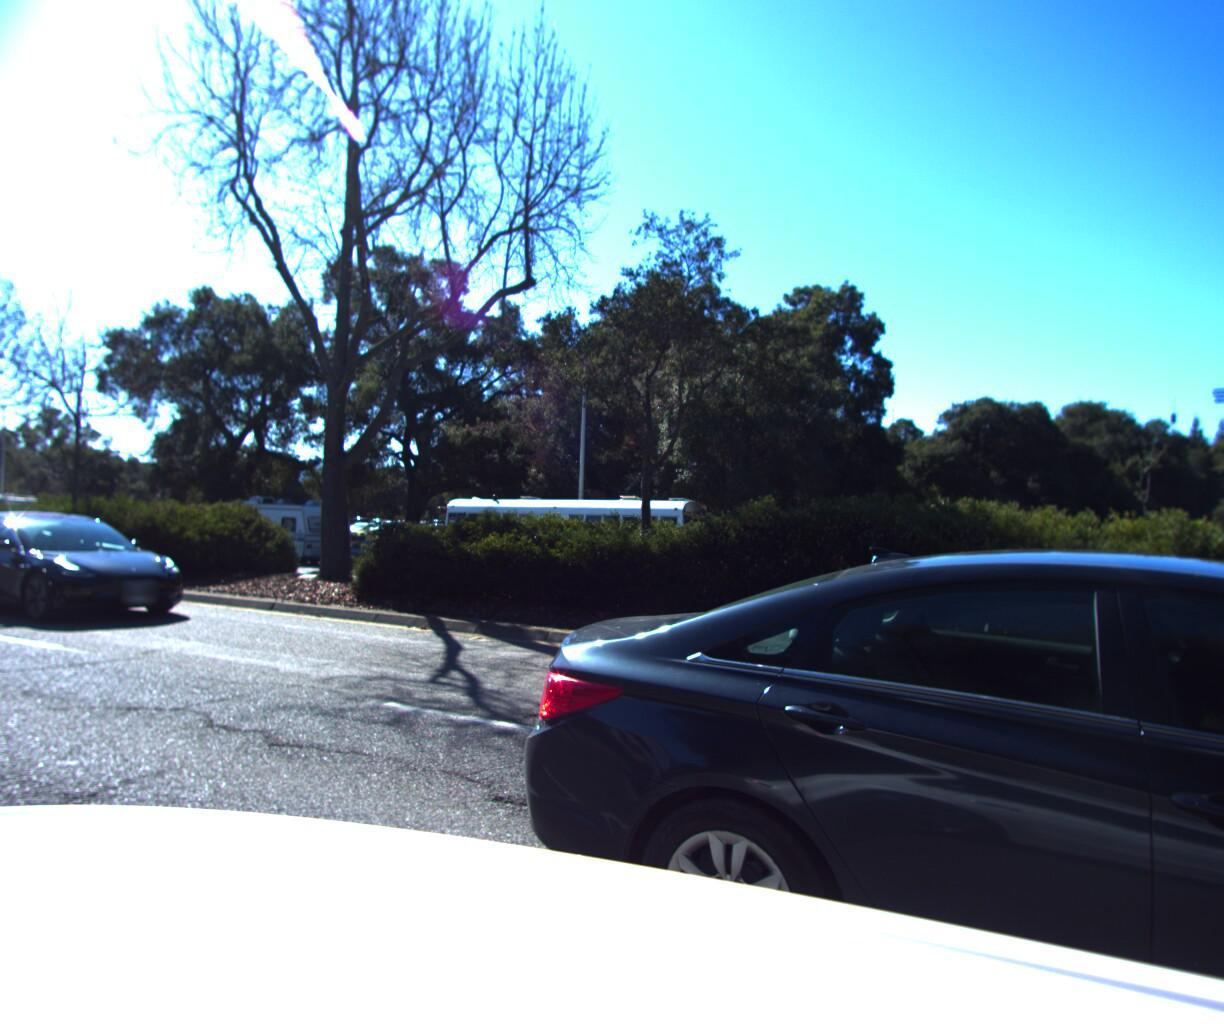bus: (409, 478, 719, 595)
car: (490, 526, 1224, 1024), (0, 521, 185, 631), (331, 535, 434, 576)
other_vehicle: (203, 496, 356, 573), (0, 493, 53, 554)
